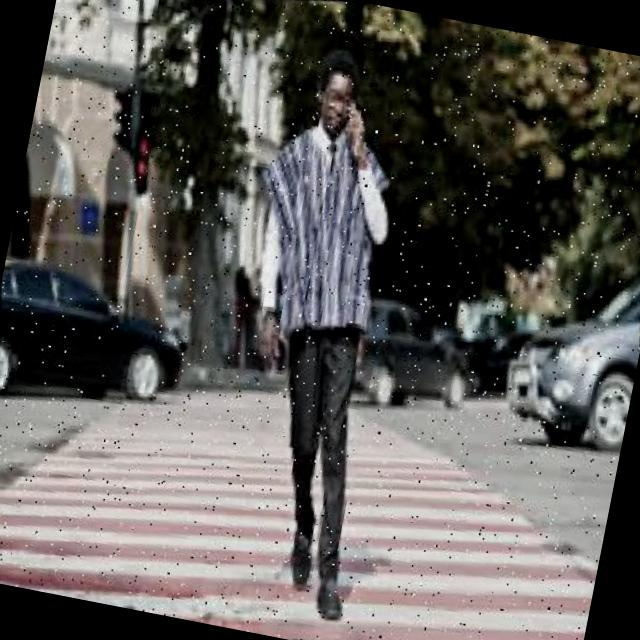Person: (161, 35, 476, 640)
